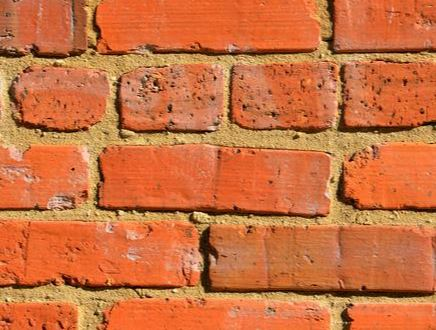brick: (96, 143, 331, 218), (206, 224, 436, 293), (93, 1, 322, 58), (1, 223, 201, 287), (229, 62, 338, 133), (114, 64, 224, 134), (102, 297, 334, 329), (341, 59, 436, 129), (8, 65, 109, 130), (1, 141, 93, 210), (330, 1, 435, 53), (1, 1, 89, 56)
